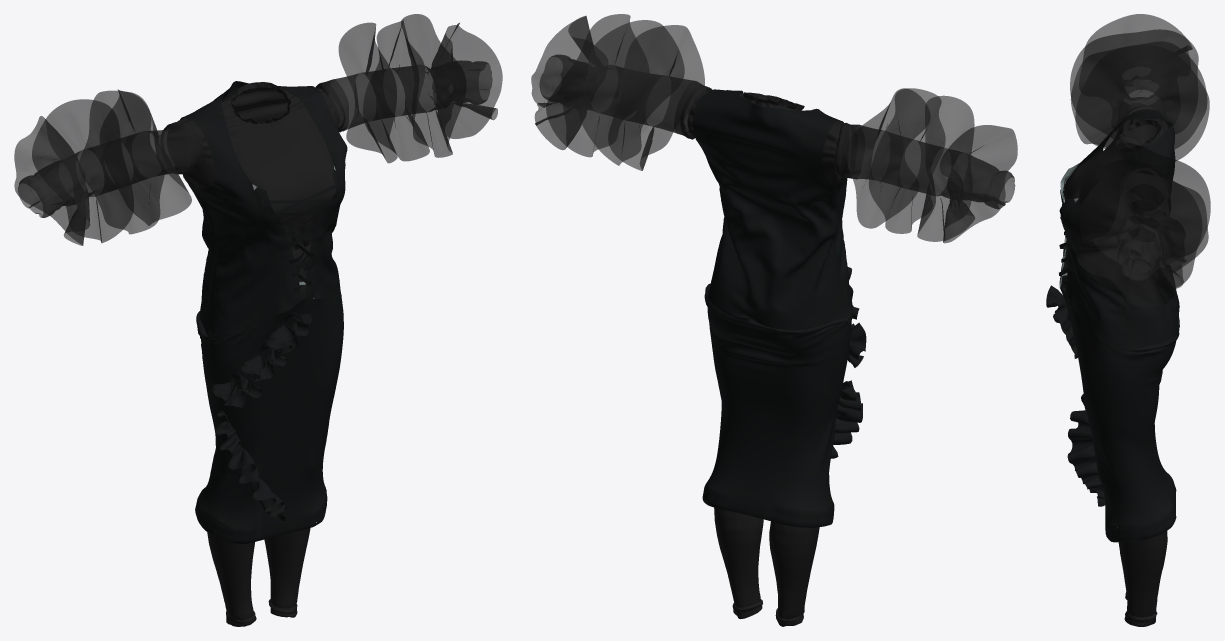
The model's file is G_clothe11_black.glb.
3 views of the same model, side by side, from view 1: azimuth 30°, elevation 25°; view 2: azimuth 150°, elevation 25°; view 3: azimuth 270°, elevation 25° (orthographic). The views are drawn at different scales.
Parts seen in each view (by area): view 1: Garment; view 2: Garment; view 3: Garment.
Boxes of the visible parts, x1=… form: Garment: x1=14, y1=14, x2=502, y2=626; Garment: x1=531, y1=14, x2=1017, y2=626; Garment: x1=1046, y1=14, x2=1210, y2=626.
Size of the model in its own units: 1.23 by 1.43 by 0.4118.
Materials: 1 (1 with a texture image).
